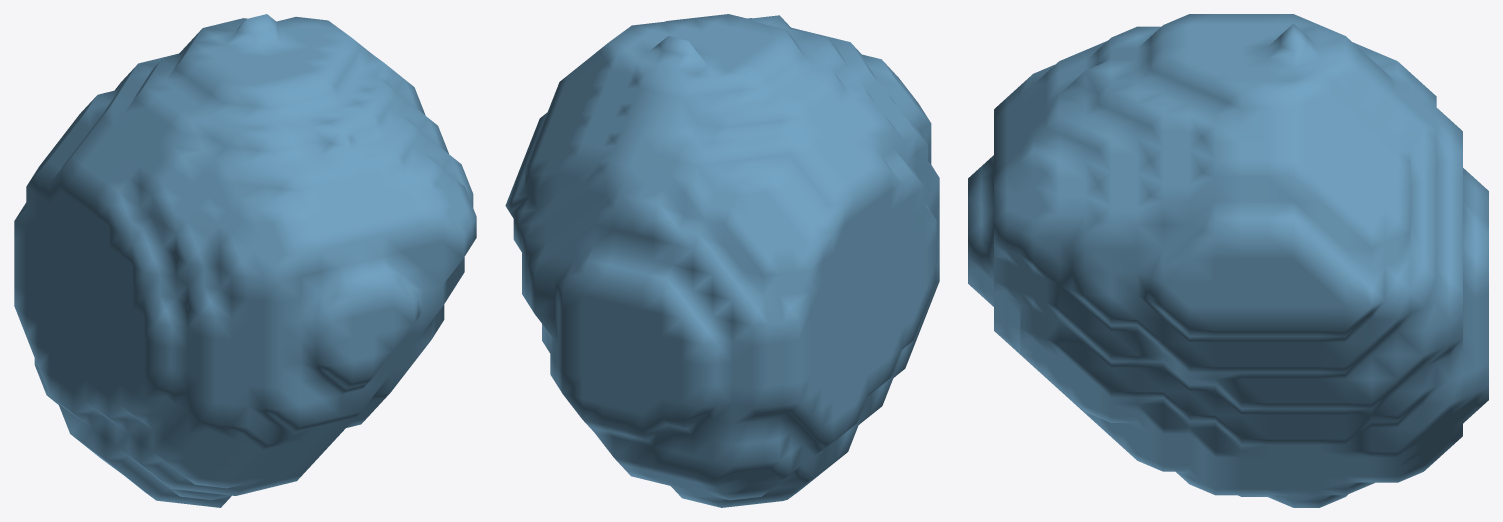
The model's file is red-nucleus-source-left.glb.
3 views of the same model, side by side, from view 1: azimuth 30°, elevation 25°; view 2: azimuth 150°, elevation 25°; view 3: azimuth 270°, elevation 25° (orthographic). The views are drawn at different scales.
Visible parts, largest first — view 1: Native_12247; view 2: Native_12247; view 3: Native_12247.
Part boxes in pixels (x1,y1,x2,y2): Native_12247: (14,14,476,507); Native_12247: (505,14,939,507); Native_12247: (968,14,1488,507).
Bounding box in the file's own units: 0.008 × 0.0105 × 0.01.
